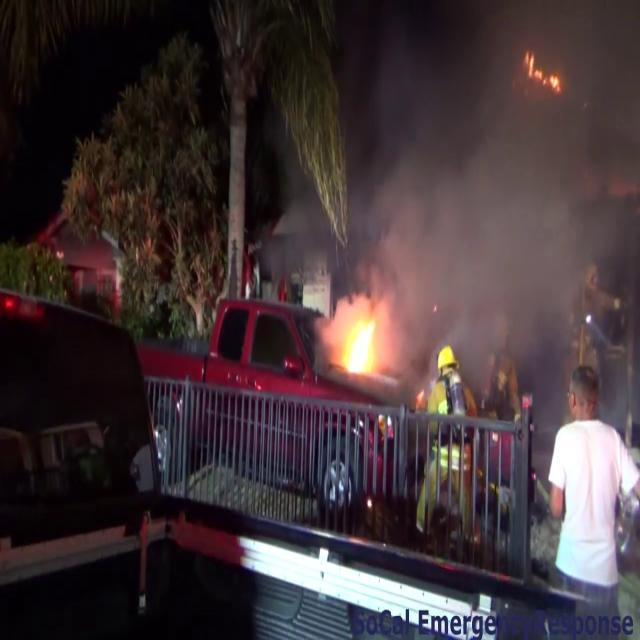Fire: (329, 294, 387, 388)
Smoke: (342, 0, 640, 343)
